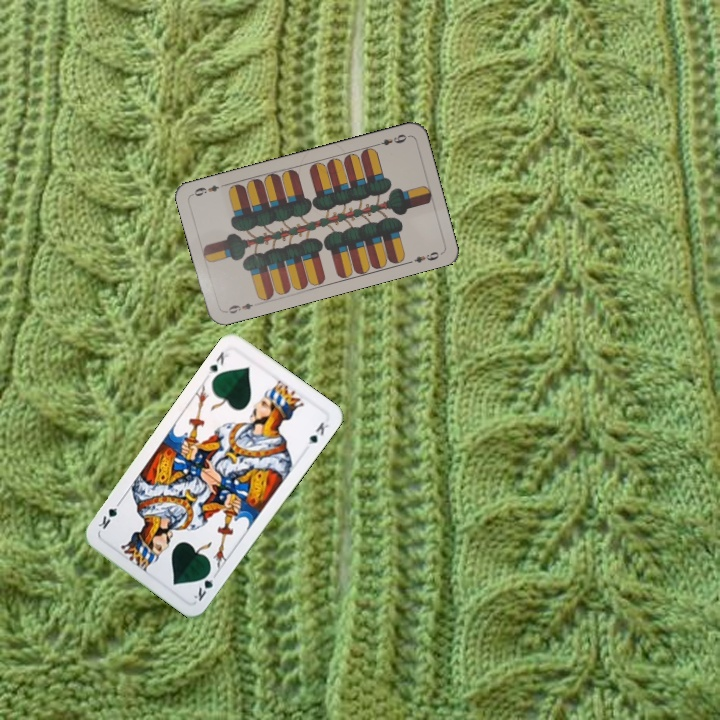E9: (371, 130, 411, 148), (221, 299, 261, 316)
GK: (189, 566, 220, 604), (203, 348, 232, 377)
